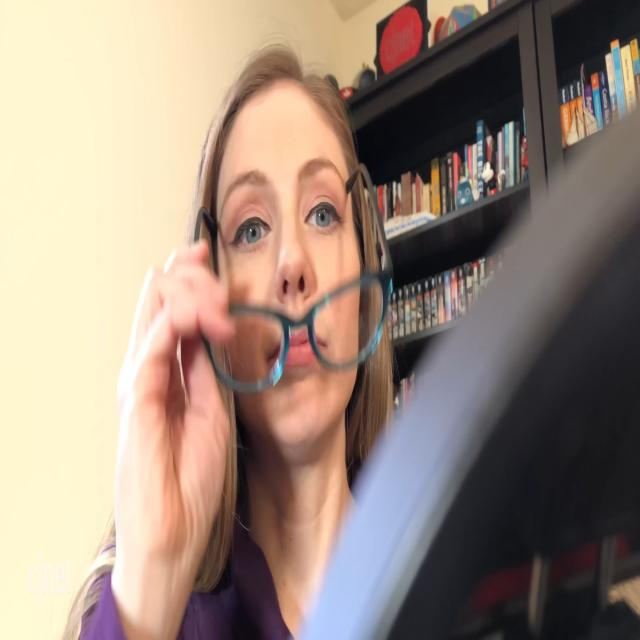dress: (71, 482, 317, 640)
glasses: (190, 257, 399, 406)
